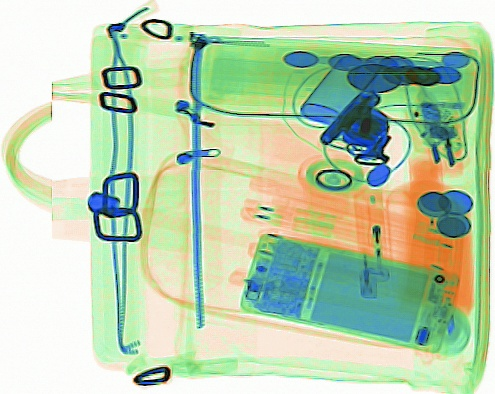lighter: (351, 184, 393, 302)
